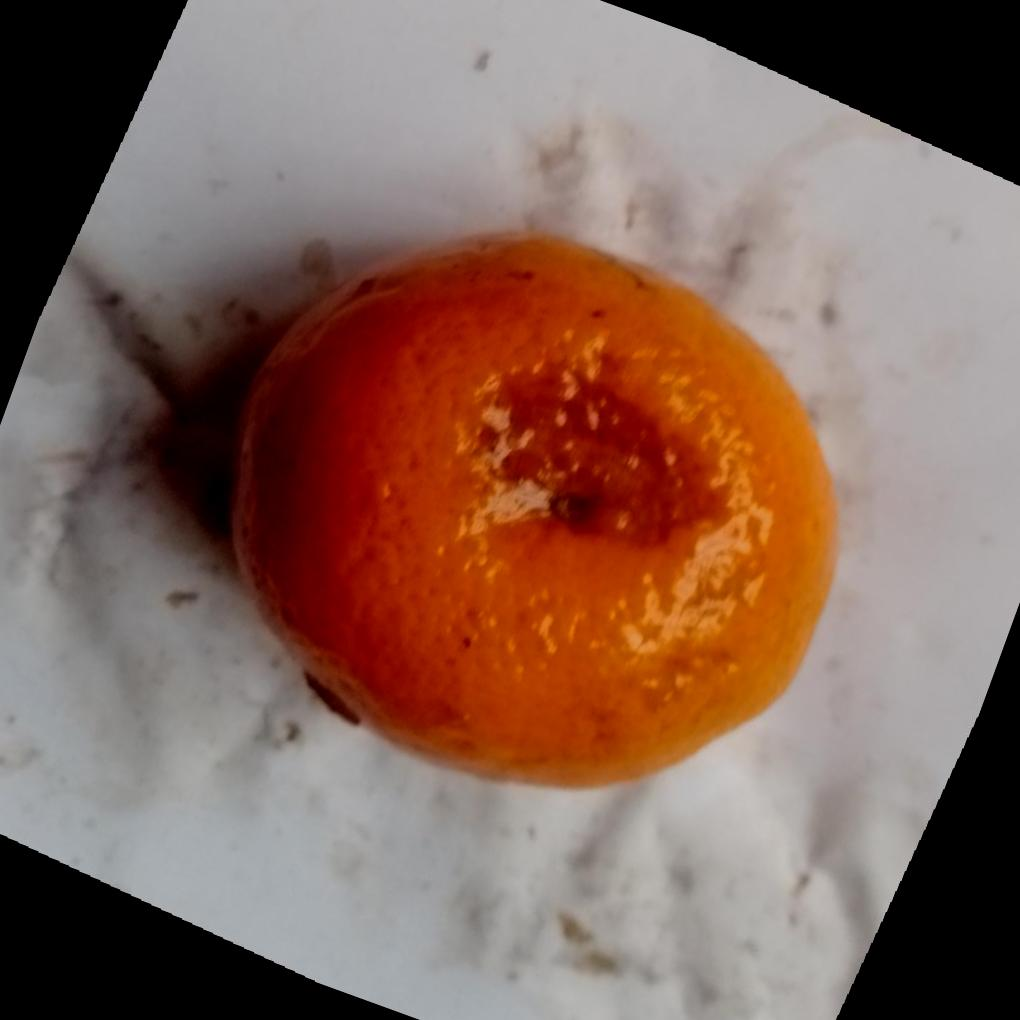FreshOrange: (221, 231, 838, 789)
